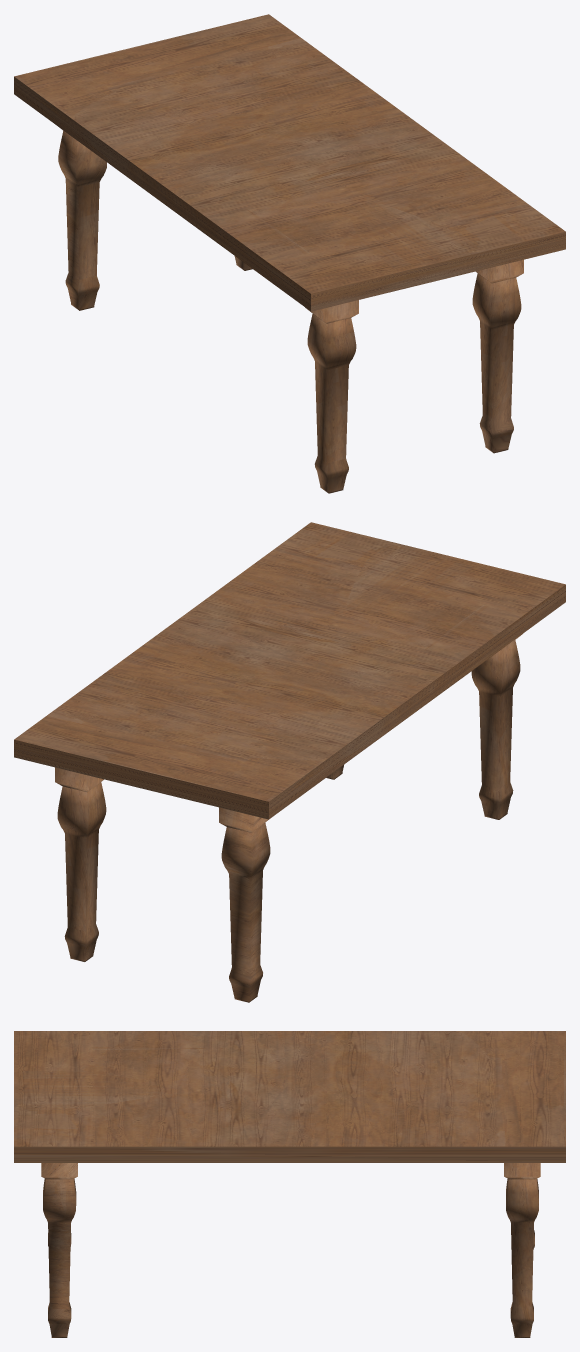
Rendered from tavolo.fbx.
The picture shows the model from 3 angles, top to bottom: view 1: azimuth 30°, elevation 25°; view 2: azimuth 150°, elevation 25°; view 3: azimuth 270°, elevation 25°; orthographic projection. The views are drawn at different scales.
Parts seen in each view (by area): view 1: Cube.004, Cube.001, Cube, Cube.003; view 2: Cube.004, Cube.003, Cube.002, Cube.001; view 3: Cube.004, Cube, Cube.002.
Boxes of the visible parts, x1,y1,x2,y2 form: Cube.004: (14, 14, 565, 311); Cube.001: (305, 300, 358, 493); Cube: (472, 259, 523, 453); Cube.003: (58, 128, 106, 310); Cube.004: (14, 522, 565, 819); Cube.003: (219, 807, 270, 1002); Cube.002: (55, 767, 106, 961); Cube.001: (471, 634, 522, 819); Cube.004: (14, 1031, 565, 1162); Cube: (41, 1163, 77, 1337); Cube.002: (504, 1163, 540, 1337).
Bounding box in the file's own units: 9967 × 8368 × 20113.
